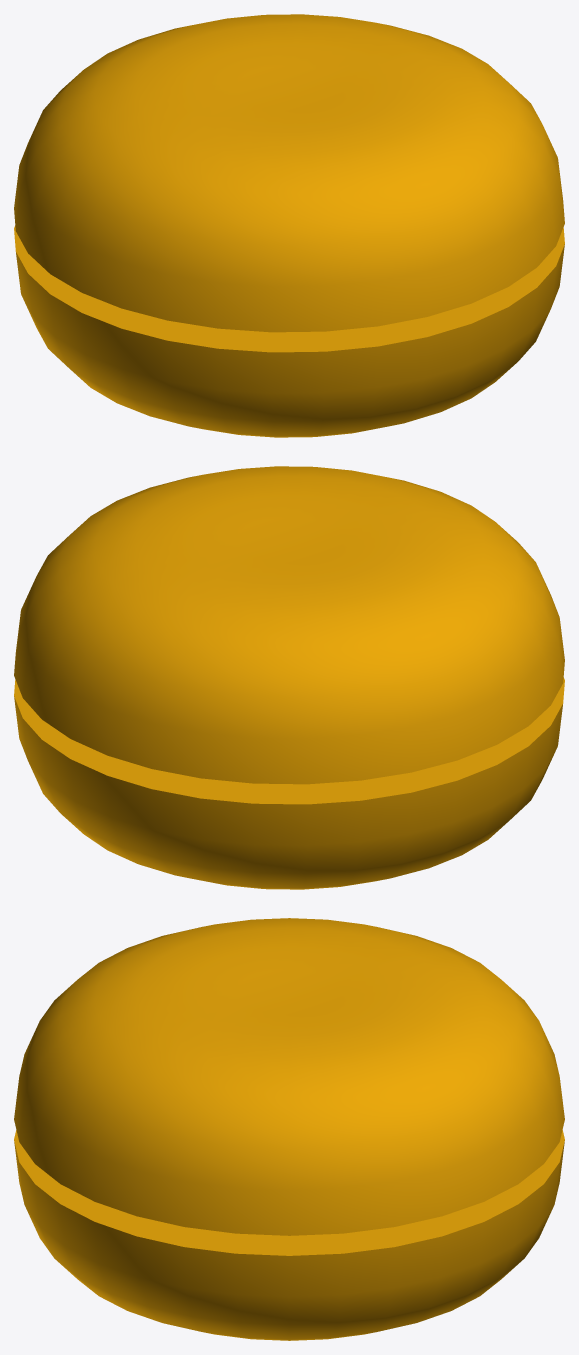
Rendered from BunTextured.fbx.
The picture shows the model from 3 angles, top to bottom: view 1: azimuth 30°, elevation 25°; view 2: azimuth 150°, elevation 25°; view 3: azimuth 270°, elevation 25°; orthographic projection.
Parts seen in each view (by area): view 1: Bun Joined; view 2: Bun Joined; view 3: Bun Joined.
Part boxes in pixels (bbox=[...]): Bun Joined: bbox=[14, 14, 564, 437]; Bun Joined: bbox=[14, 466, 564, 889]; Bun Joined: bbox=[14, 918, 564, 1340].
Size of the model in its own units: 0.2127 by 0.118 by 0.2127.
